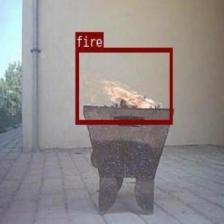fire: (74, 47, 172, 124)
